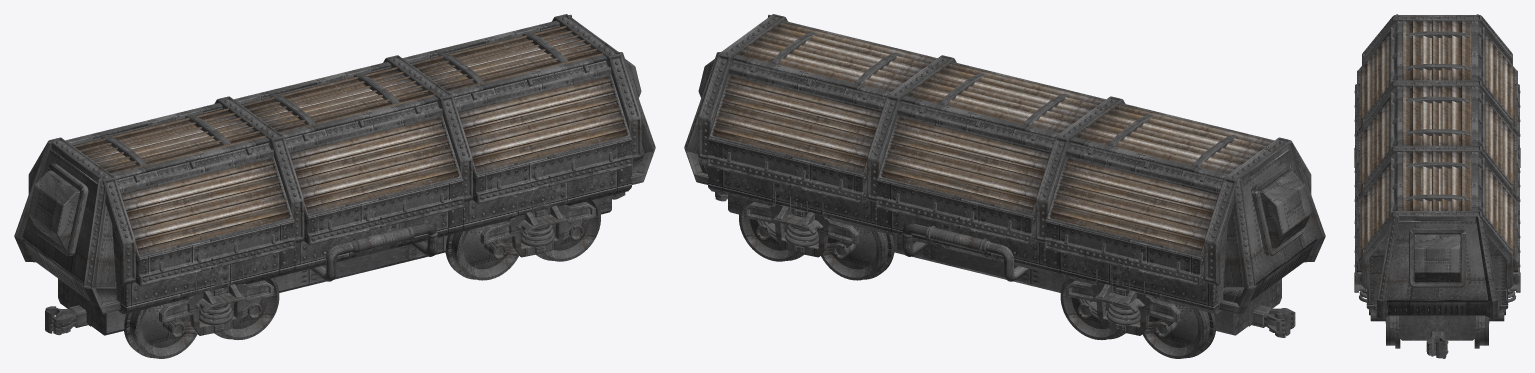
File: static.fbx
3 renders of one model, left to right at view 1: azimuth 30°, elevation 25°; view 2: azimuth 150°, elevation 25°; view 3: azimuth 270°, elevation 25°, orthographic. The views are drawn at different scales.
Visible parts, largest first — view 1: Cube_2_4, Cube_1_2, Boole_4, Boole_6, Boole_2, Cube_1_28, Cube_1_44, Cube_1_12, Cube_2_8, Cube_29, Cube_17, Cube_5 (+55 smaller); view 2: Cube_2_4, Cube_1_2, Boole_4, Boole_6, Boole_2, Cube_2_8, Cube_1_28, Cube_1_44, Cube_1_12, Cube_2_6, Cube_2, Cylinder_5 (+73 smaller); view 3: Cube_1_2, Cube_2, Cube_2_8, Boole_Cube, Cube_2_7, Cube_1_28, Cube_1_12, Plane, Cube_1_44, Sweep, Cube_5, Cube_29 (+65 smaller).
Part boxes in pixels (<box>): Cube_2_4: <box>58,249,294,335</box>; Cube_1_2: <box>22,66,644,302</box>; Boole_4: <box>303,178,464,244</box>; Boole_6: <box>472,137,633,203</box>; Boole_2: <box>135,219,295,286</box>; Cube_1_28: <box>234,61,442,151</box>; Cube_1_44: <box>402,20,611,110</box>; Cube_1_12: <box>65,103,273,192</box>; Cube_2_8: <box>442,166,631,253</box>; Cube_29: <box>412,28,598,90</box>; Cube_17: <box>243,69,429,131</box>; Cube_5: <box>75,110,261,172</box>; Cube_2_4: <box>1045,249,1281,335</box>; Cube_1_2: <box>695,66,1317,302</box>; Boole_4: <box>875,178,1036,244</box>; Boole_6: <box>706,137,867,203</box>; Boole_2: <box>1044,219,1204,286</box>; Cube_2_8: <box>708,166,897,253</box>; Cube_1_28: <box>897,61,1105,151</box>; Cube_1_44: <box>728,20,937,110</box>; Cube_1_12: <box>1066,103,1274,192</box>; Cube_2_6: <box>876,208,1065,292</box>; Cube_2: <box>698,59,1311,248</box>; Cylinder_5: <box>817,224,894,280</box>; Cube_1_2: <box>1386,27,1488,315</box>; Cube_2: <box>1414,234,1460,282</box>; Cube_2_8: <box>1367,289,1507,340</box>; Boole_Cube: <box>1377,14,1497,301</box>; Cube_2_7: <box>1361,211,1513,288</box>; Cube_1_28: <box>1390,86,1484,149</box>; Cube_1_12: <box>1390,21,1484,83</box>; Plane: <box>1368,236,1506,307</box>; Cube_1_44: <box>1390,152,1484,214</box>; Sweep: <box>1409,228,1465,287</box>; Cube_5: <box>1409,22,1461,80</box>; Cube_29: <box>1409,153,1461,210</box>.
Size of the model in its own units: 1232 by 391 by 382.
Materials: 2 (2 with a texture image).
